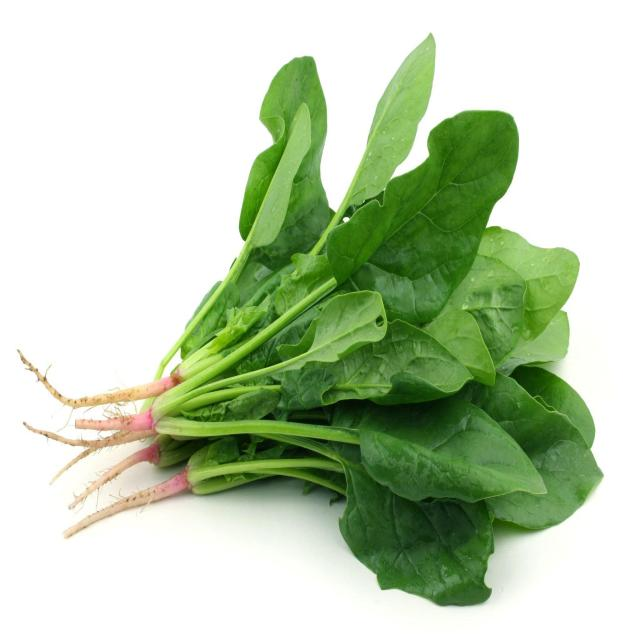spinach: (18, 27, 610, 640)
